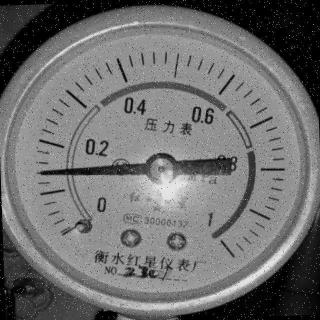gauge: (0, 5, 320, 320), (192, 208, 248, 269), (58, 202, 92, 252), (142, 151, 178, 187), (33, 165, 55, 180)
